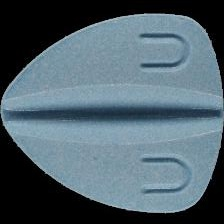61919-777: (0, 0, 224, 224)
